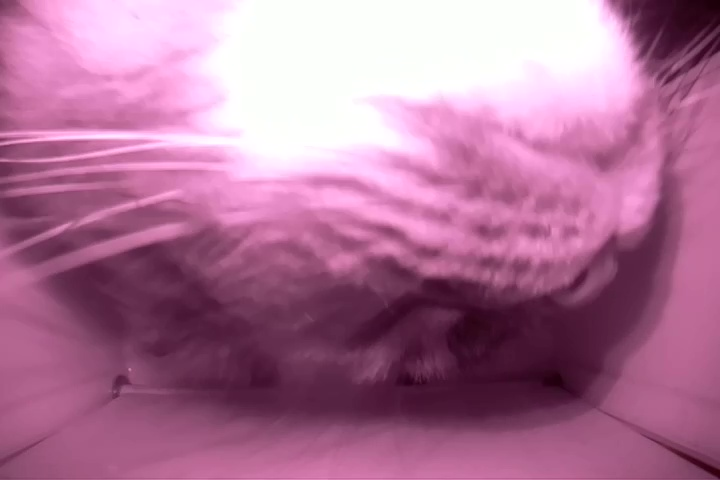Snout: (399, 72, 671, 316)
